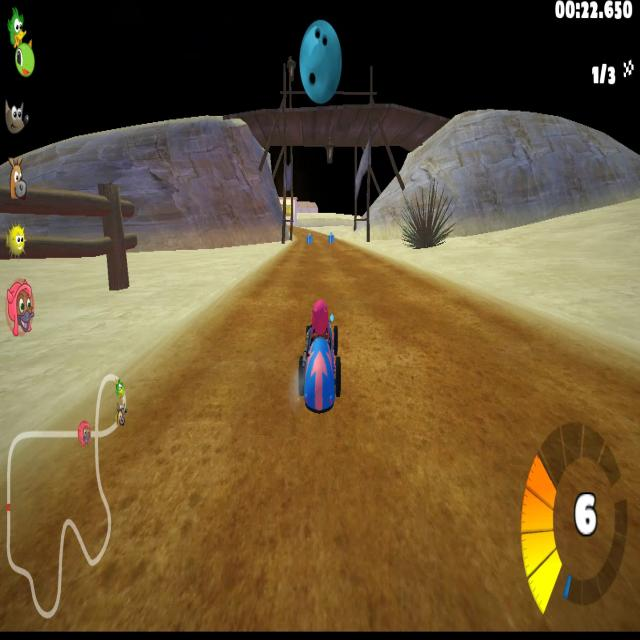bonus: (305, 228, 316, 245), (328, 231, 335, 243)
off_track: (101, 134, 275, 275), (406, 179, 636, 275)
player_kart: (298, 303, 342, 416)
track: (280, 250, 385, 303)
